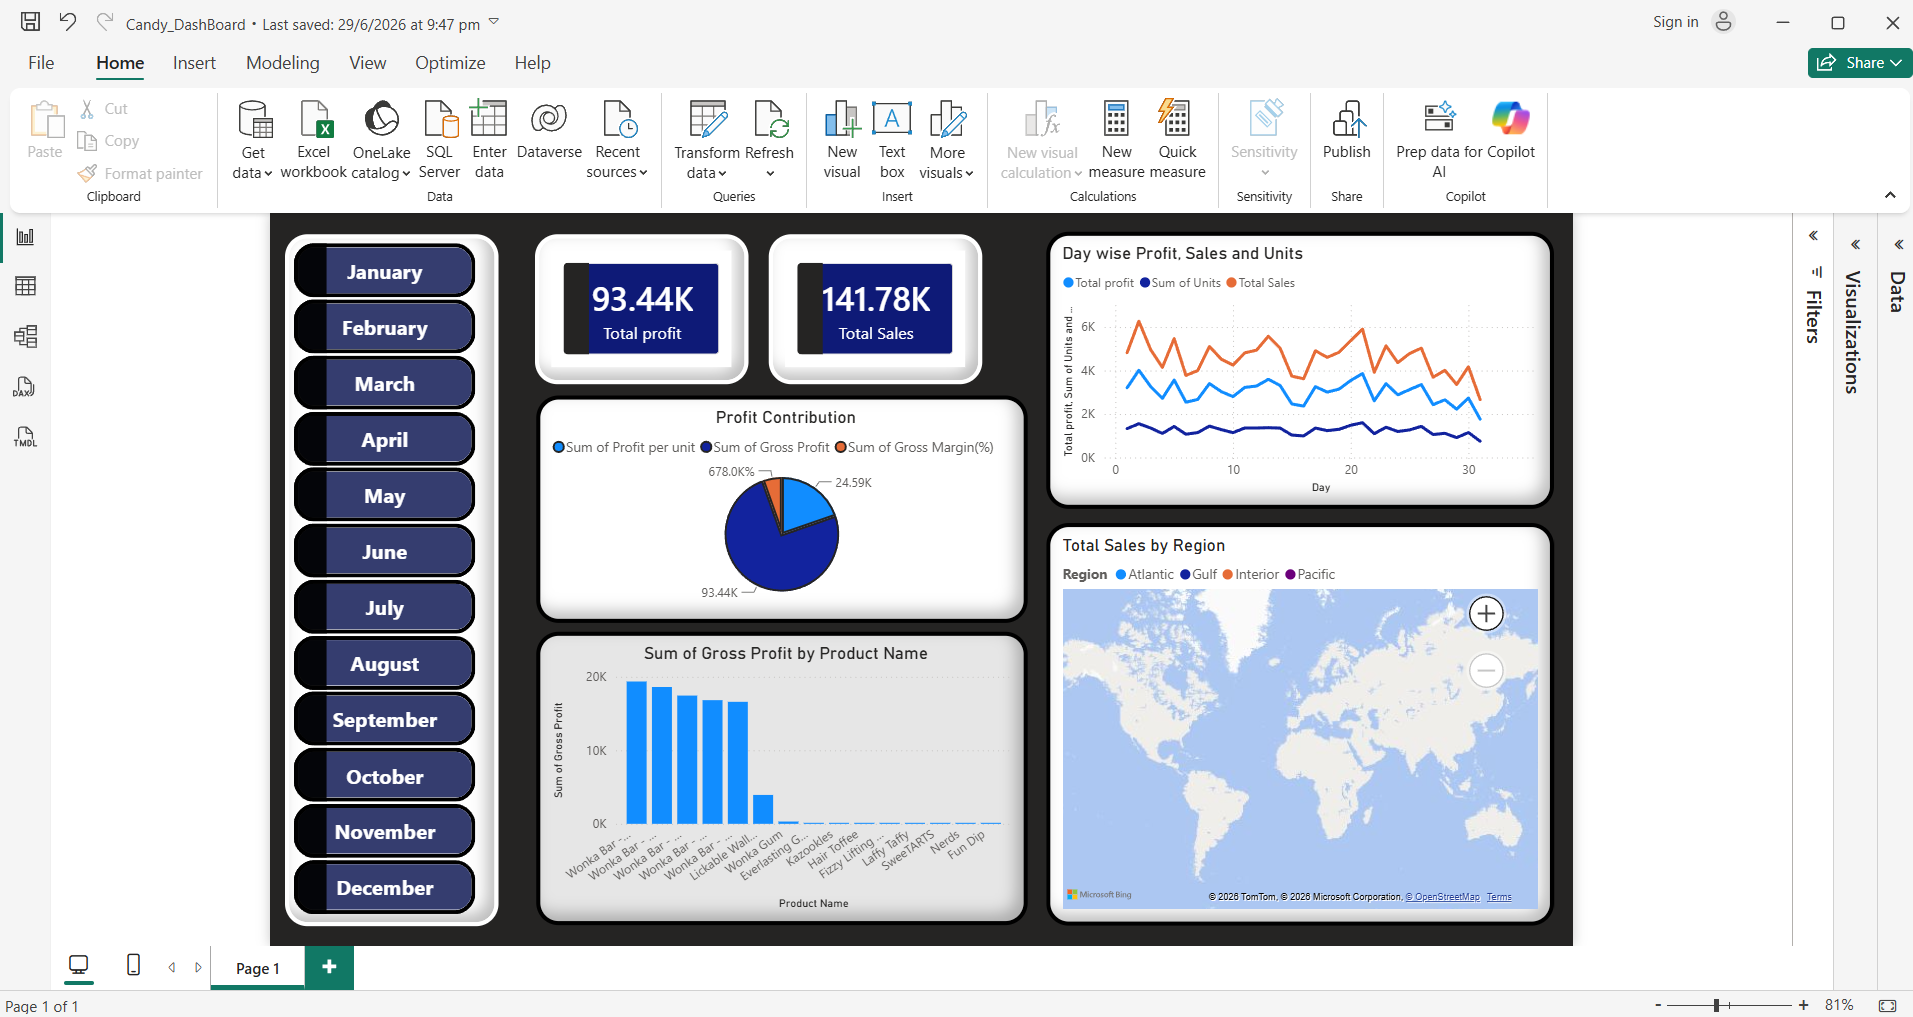

This screenshot's page, from the dashboard's own definition file:
{"tool":"powerbi","page":{"name":"Page 1","canvas":[1280,720],"ordinal":0},"visuals":[{"type":"listSlicer","fields":{"Values":["Dataset_Candy.Order Date.Variation.Date Hierarchy.Month"]},"box":[15,20.6,209.9,679.2],"z":0},{"type":"cardVisual","fields":{"Data":["Dataset_Candy.Total Sales"]},"box":[489.9,20.6,209.9,146.8],"z":1000},{"type":"cardVisual","fields":{"Data":["Dataset_Candy.Total profit"]},"box":[260.7,20.6,209.9,146.8],"z":2000},{"type":"columnChart","fields":{"Category":["Dataset_Candy.Product Name"],"Y":["Sum(Dataset_Candy.Gross Profit)"]},"box":[261.4,411,482.2,288.3],"z":3000},{"type":"pieChart","title":"Profit Contribution ","fields":{"Y":["Sum(Dataset_Candy.Profit per unit)","Sum(Dataset_Candy.Gross Profit)","Sum(Dataset_Candy.Gross Margin(%))"]},"box":[261.4,179.1,482.2,223.3],"z":4000},{"type":"filledMap","fields":{"Series":["Dataset_Candy.Region"]},"box":[762,304.3,498.2,395.1],"z":5000},{"type":"lineChart","title":"Day wise Profit, Sales and Units","fields":{"Category":["Dataset_Candy.Order Date.Variation.Date Hierarchy.Day"],"Y":["Dataset_Candy.Total profit","Sum(Dataset_Candy.Units)","Dataset_Candy.Total Sales"]},"box":[762,18.4,498.2,272.4],"z":5001}]}

Visuals, with their boxes on the page's 1280x720 design canvas (x1, y1, x2, y2). These are canvas units, not pixel positions in the 1913x1017 screenshot, which may show the page scaled, cropped or inside an application window:
listSlicer - Dataset_Candy.Order Date.Variation.Date Hierarchy.Month: <box>15,21,225,700</box>
cardVisual - Dataset_Candy.Total Sales: <box>490,21,700,167</box>
cardVisual - Dataset_Candy.Total profit: <box>261,21,471,167</box>
columnChart - Dataset_Candy.Product Name x Sum(Dataset_Candy.Gross Profit): <box>261,411,744,699</box>
"Profit Contribution " pieChart: <box>261,179,744,402</box>
filledMap - Dataset_Candy.Region: <box>762,304,1260,699</box>
"Day wise Profit, Sales and Units" lineChart: <box>762,18,1260,291</box>
